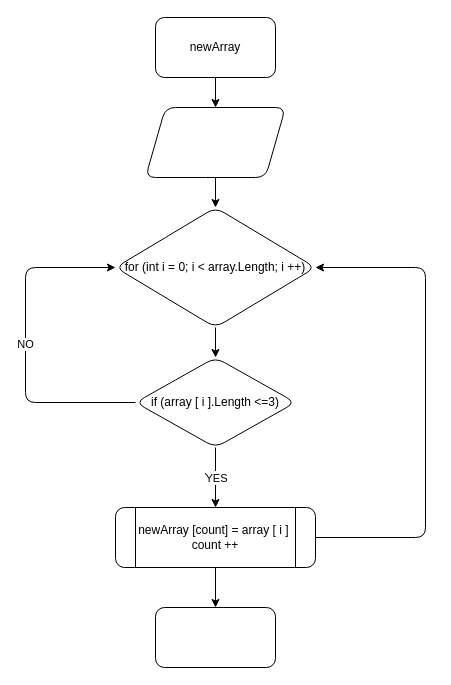
Image size: 451x685. Some labels were removed from this diagram. Here are the shapes that lost their labels. From the top down, the centre of each, then its label:
At (215,142): "string [ ] array string [ ] newArray int count = 0".
At (215,637): "PrintArray (newArray)".
